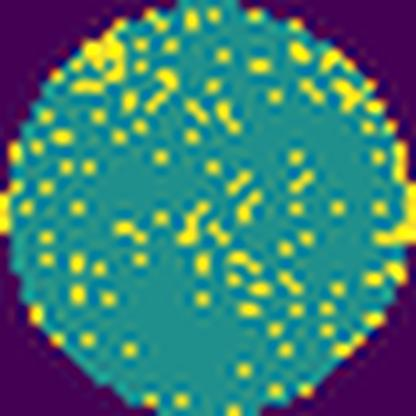Edge-Loc: (367, 137, 415, 250), (54, 27, 130, 89)
